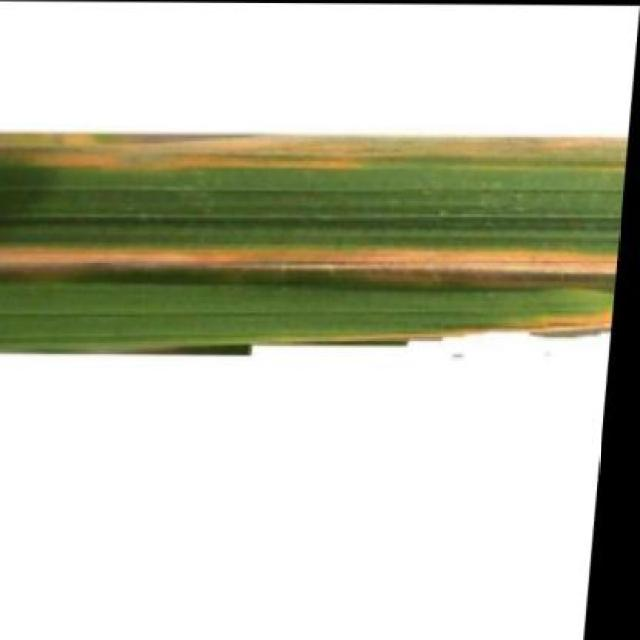Brown_Spot: (0, 122, 631, 367)
